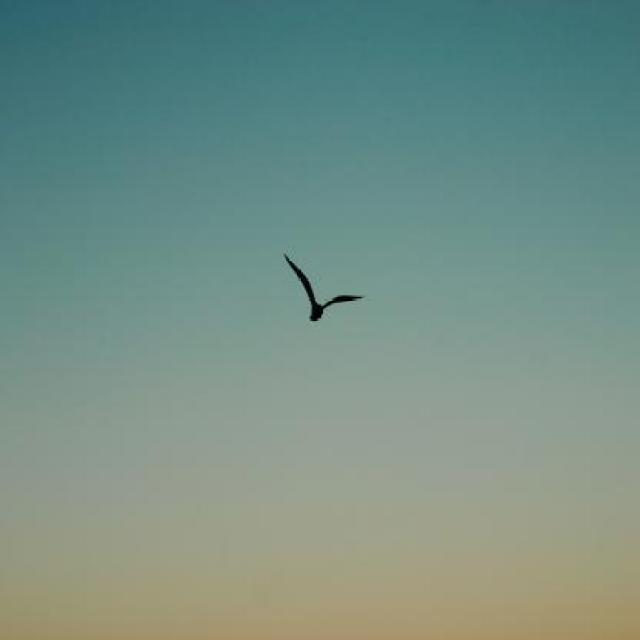bird: (284, 253, 366, 321)
